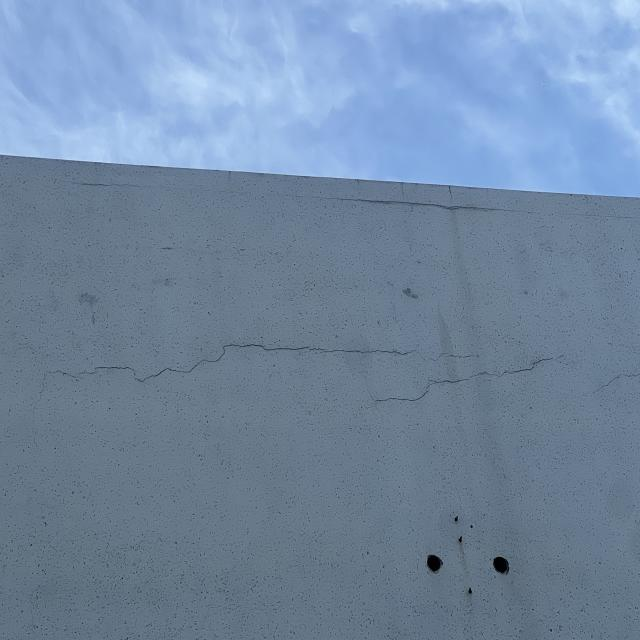crack: (48, 330, 418, 390), (323, 187, 520, 224), (371, 366, 555, 403)
